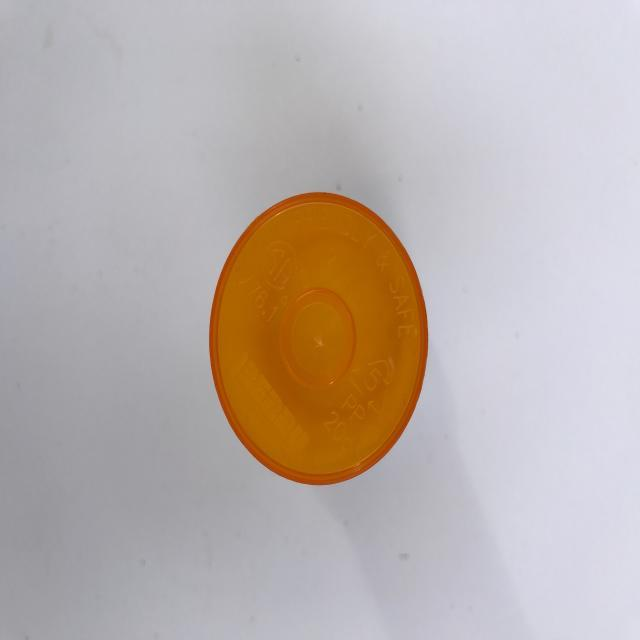plastic: (204, 190, 432, 490)
